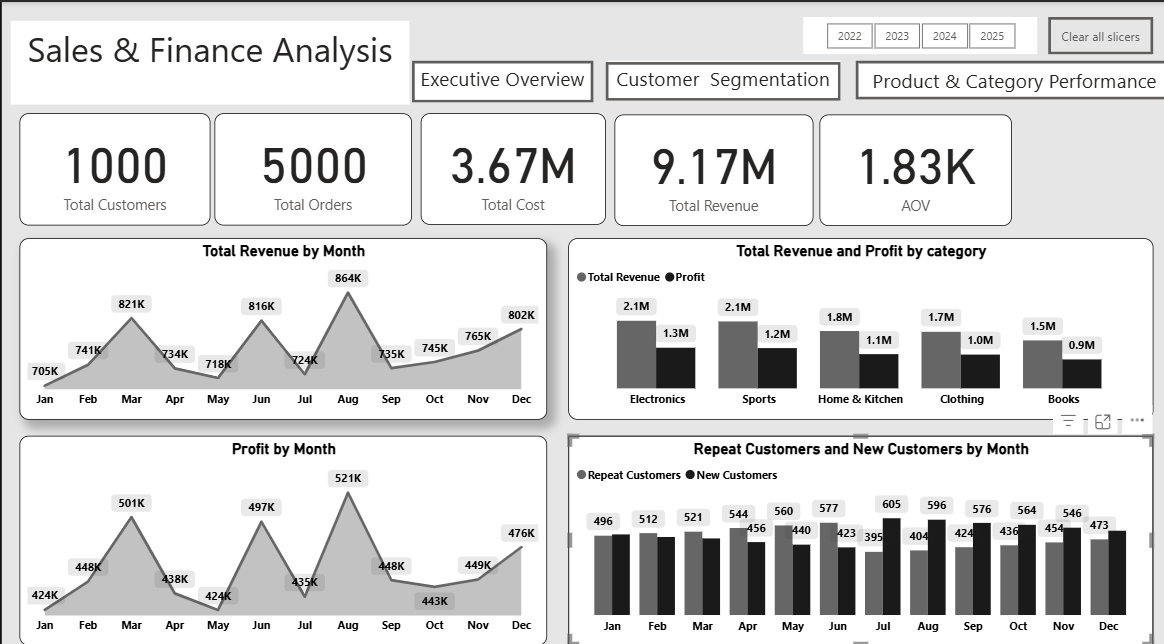

The page's visual inventory and layout, read from the dashboard file:
{"tool":"powerbi","page":{"name":"Executive Overview","canvas":[1280,720],"ordinal":0},"visuals":[{"type":"actionButton","box":[450,64.2,199.1,46],"z":0,"group":"g1"},{"type":"card","fields":{"Values":["_measures.Total Revenue"]},"box":[672.4,123.5,218.2,122.1],"z":0},{"type":"actionButton","box":[662.7,65.8,258,42.5],"z":1000,"group":"g1"},{"type":"card","fields":{"Values":["_measures.Total Orders"]},"box":[233.3,122.1,216.8,123.5],"z":1000},{"type":"actionButton","box":[937.2,64.5,343.1,42.5],"z":2000,"group":"g1"},{"type":"card","fields":{"Values":["_measures.Total Customers"]},"box":[19.2,122.1,209.9,123.5],"z":2000},{"type":"card","fields":{"Values":["_measures.Total Cost"]},"box":[459.7,122.1,203.1,122.1],"z":3000},{"type":"card","fields":{"Values":["_measures.AOV"]},"box":[897.4,123.5,211.3,122.1],"z":4000},{"type":"lineChart","title":"Total Revenue by Month","fields":{"Y":["_measures.Total Revenue"],"Category":["DateTable.MonthShort"]},"box":[19.2,259.3,579.1,199],"z":5000},{"type":"areaChart","title":"Profit by Month","fields":{"Category":["DateTable.MonthShort"],"Y":["_measures.Profit"]},"box":[19.2,476.2,579.1,230.5],"z":6000},{"type":"clusteredColumnChart","fields":{"Category":["products.category"],"Y":["_measures.Total Revenue","_measures.Profit"]},"box":[621.6,259.3,642.2,199],"z":7000},{"type":"clusteredColumnChart","title":"Repeat Customers and New Customers by Month","fields":{"Category":["DateTable.MonthShort"],"Y":["_measures.Repeat Customers","_measures.New Customers"]},"box":[622,476,642,231],"z":8000},{"type":"slicer","fields":{"Values":["DateTable.Year"]},"box":[879.6,16.5,256.6,41.2],"z":9000},{"type":"actionButton","box":[1148.5,16.5,115.3,41.2],"z":10000},{"type":"textbox","box":[9.6,20.6,437.7,91.9],"z":11000},{"type":"textbox","box":[450.1,64.5,199,43.9],"z":12000},{"type":"textbox","box":[662.8,64.5,258,43.9],"z":13000},{"type":"textbox","box":[937.2,65.9,343.1,41.2],"z":14000},{"type":"group","id":"g1","title":"nav button","box":[450,64.2,830.2,46],"z":15000}]}

Visuals, with their boxes in screenshot pixels (x1, y1, x2, y2), scaled from the page's 1280x720 canvas onto the 1164x644 screenshot:
actionButton: Rect(409, 57, 590, 99)
card - _measures.Total Revenue: Rect(611, 110, 810, 220)
actionButton: Rect(603, 59, 837, 97)
card - _measures.Total Orders: Rect(212, 109, 409, 220)
actionButton: Rect(852, 58, 1163, 96)
card - _measures.Total Customers: Rect(17, 109, 208, 220)
card - _measures.Total Cost: Rect(418, 109, 603, 218)
card - _measures.AOV: Rect(816, 110, 1008, 220)
"Total Revenue by Month" lineChart: Rect(17, 232, 544, 410)
"Profit by Month" areaChart: Rect(17, 426, 544, 632)
clusteredColumnChart - products.category x _measures.Total Revenue: Rect(565, 232, 1149, 410)
"Repeat Customers and New Customers by Month" clusteredColumnChart: Rect(566, 426, 1149, 632)
slicer - DateTable.Year: Rect(800, 15, 1033, 52)
actionButton: Rect(1044, 15, 1149, 52)
textbox: Rect(9, 18, 407, 101)
textbox: Rect(409, 58, 590, 97)
textbox: Rect(603, 58, 837, 97)
textbox: Rect(852, 59, 1163, 96)
"nav button" group: Rect(409, 57, 1163, 99)
